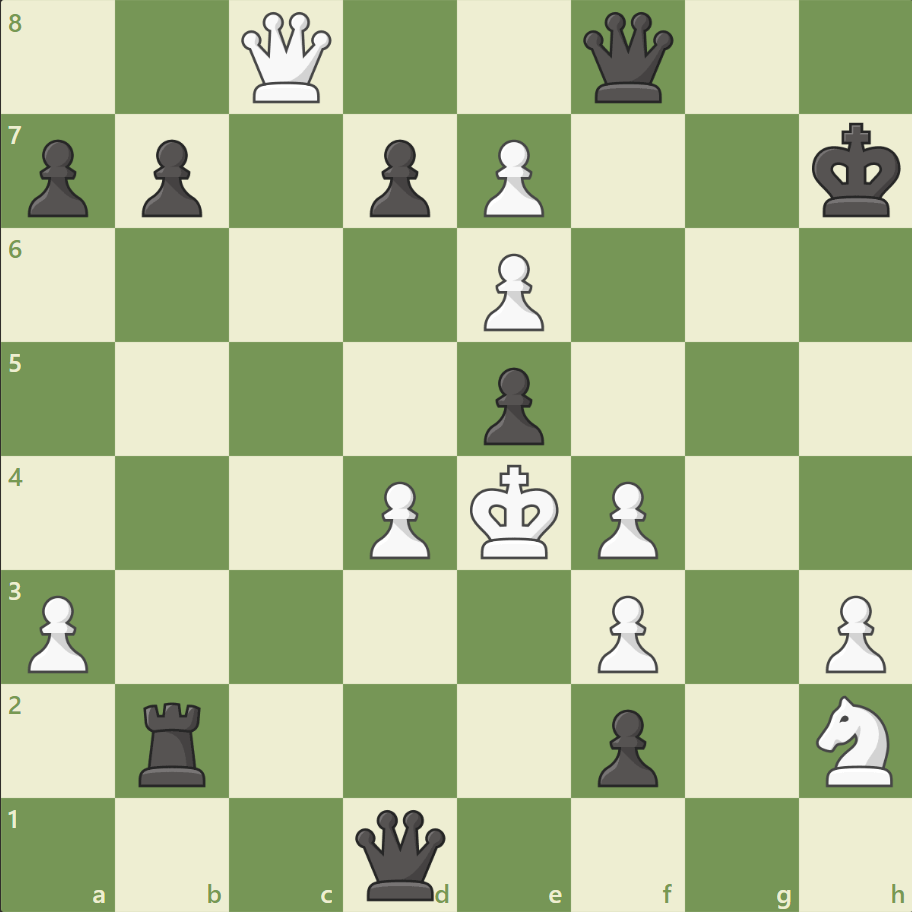K: (465, 458, 565, 566)
N: (806, 688, 903, 791)
P: (474, 132, 549, 223), (474, 246, 549, 337), (20, 586, 95, 677), (361, 473, 435, 564), (588, 473, 662, 564), (588, 586, 662, 677), (815, 586, 889, 677)
Q: (237, 9, 336, 108)
k: (806, 117, 906, 225)
p: (20, 132, 95, 223), (133, 132, 208, 223), (474, 359, 549, 450), (361, 132, 435, 223), (588, 700, 662, 791)
q: (578, 9, 677, 108), (351, 804, 450, 903)
r: (133, 693, 215, 790)
